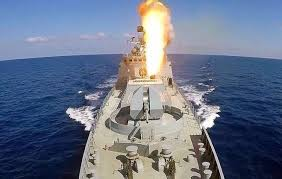tau_muctieu: (87, 20, 226, 179)
